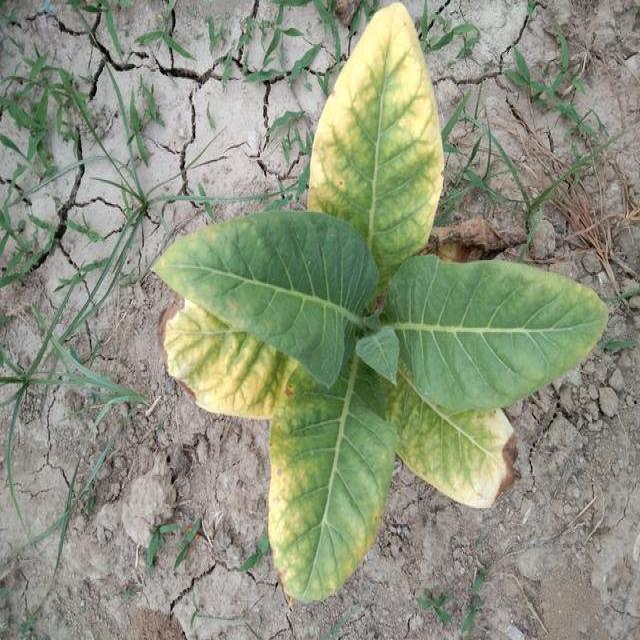crop: (172, 10, 611, 598)
